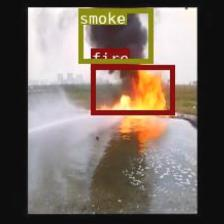fire: (90, 64, 174, 114)
smoke: (78, 8, 152, 63)
